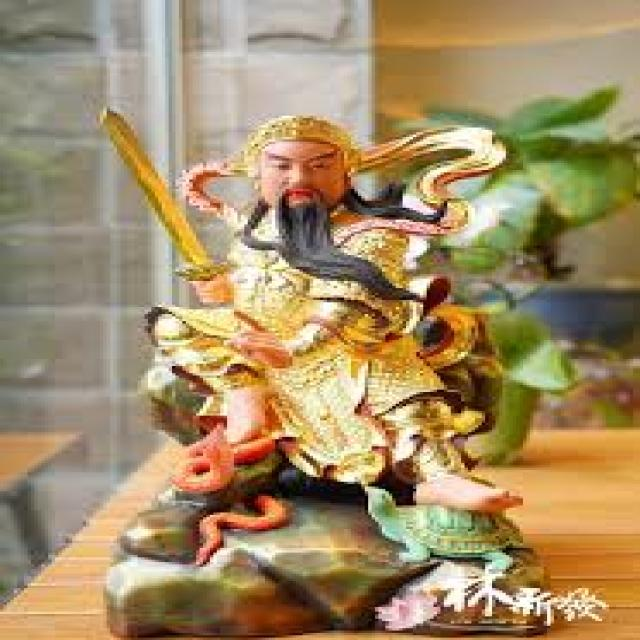Xuan wu: (118, 104, 526, 571)
